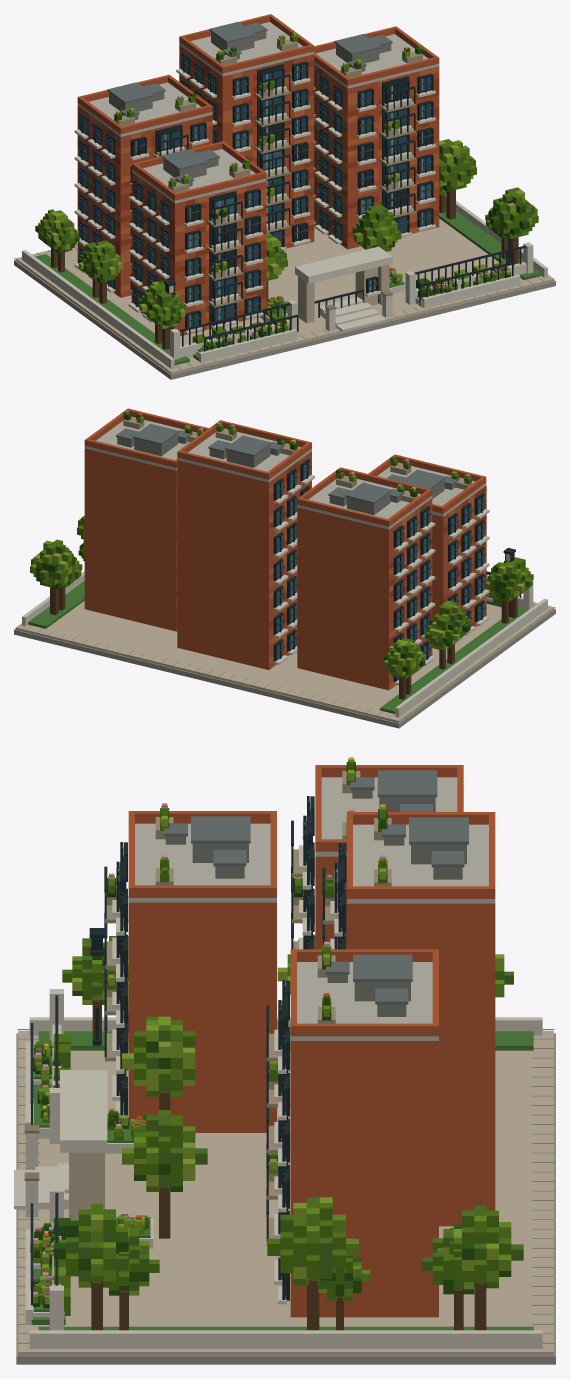
File: SM_Mapa_027.fbx
3 renders of one model, top to bottom at view 1: azimuth 30°, elevation 25°; view 2: azimuth 150°, elevation 25°; view 3: azimuth 270°, elevation 25°, orthographic. The views are drawn at different scales.
Parts seen in each view (by area): view 1: SM_Mapa_027; view 2: SM_Mapa_027; view 3: SM_Mapa_027.
Part boxes in pixels (x1=…): SM_Mapa_027: x1=14, y1=14, x2=555, y2=379; SM_Mapa_027: x1=14, y1=408, x2=555, y2=728; SM_Mapa_027: x1=14, y1=757, x2=555, y2=1364.
Size of the model in its own units: 32 by 22.4 by 16.73.
